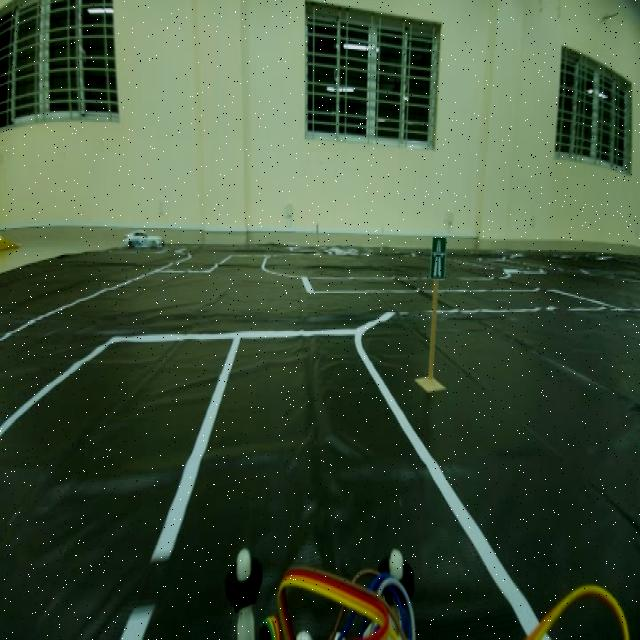highway_entry: (424, 226, 451, 286)
